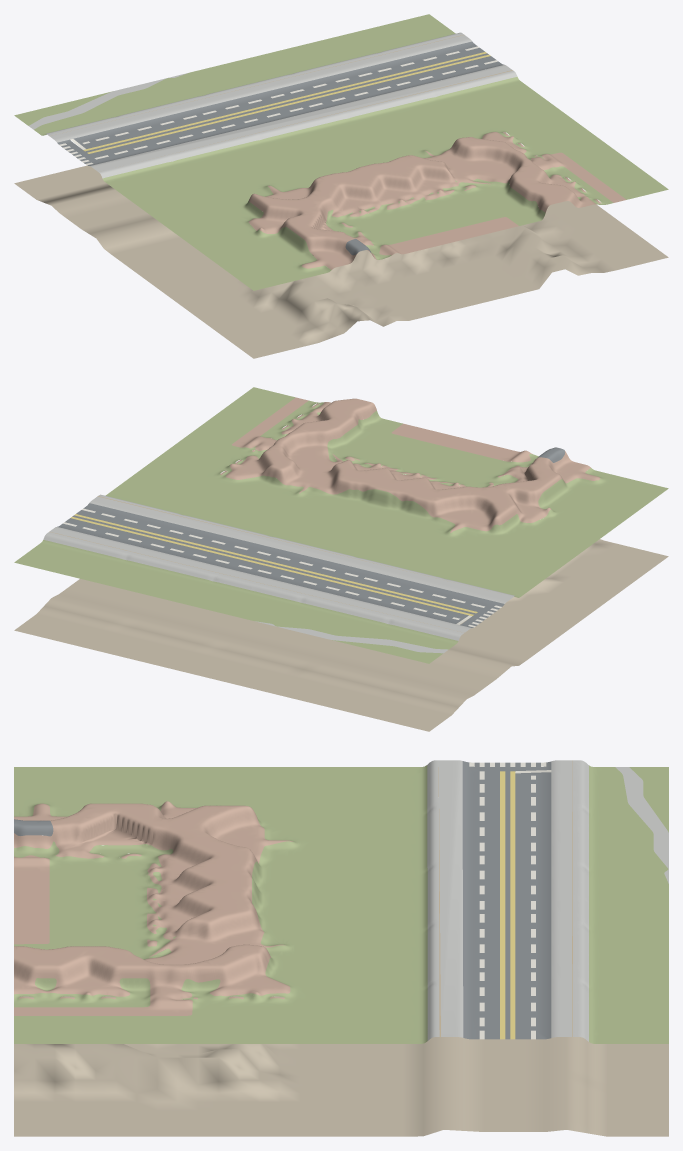
3 views of the same model, one above another, from view 1: azimuth 30°, elevation 25°; view 2: azimuth 150°, elevation 25°; view 3: azimuth 270°, elevation 25° (orthographic). The views are drawn at different scales.
Visible parts, largest first — view 1: s_-10_-6__grass, s_-10_-6__soil, s_-10_-6__brick_paving, s_-10_-6__stone_paving, s_-10_-6__asphalt, s_-10_-6__yellow_marking, s_-10_-6__white_marking, s_-10_-6__timber_deck; view 2: s_-10_-6__grass, s_-10_-6__soil, s_-10_-6__brick_paving, s_-10_-6__stone_paving, s_-10_-6__asphalt, s_-10_-6__yellow_marking, s_-10_-6__white_marking, s_-10_-6__timber_deck; view 3: s_-10_-6__grass, s_-10_-6__soil, s_-10_-6__brick_paving, s_-10_-6__stone_paving, s_-10_-6__asphalt, s_-10_-6__yellow_marking, s_-10_-6__white_marking, s_-10_-6__timber_deck.
Boxes of the visible parts, bbox=[...] form: s_-10_-6__grass: bbox=[14, 14, 668, 290]; s_-10_-6__soil: bbox=[14, 165, 668, 358]; s_-10_-6__brick_paving: bbox=[248, 132, 626, 269]; s_-10_-6__stone_paving: bbox=[29, 32, 517, 178]; s_-10_-6__asphalt: bbox=[57, 41, 503, 255]; s_-10_-6__yellow_marking: bbox=[83, 52, 490, 153]; s_-10_-6__white_marking: bbox=[59, 46, 497, 165]; s_-10_-6__timber_deck: bbox=[51, 34, 512, 156]; s_-10_-6__grass: bbox=[14, 387, 668, 663]; s_-10_-6__soil: bbox=[14, 539, 668, 731]; s_-10_-6__brick_paving: bbox=[220, 397, 600, 532]; s_-10_-6__stone_paving: bbox=[43, 494, 514, 653]; s_-10_-6__asphalt: bbox=[57, 447, 565, 627]; s_-10_-6__yellow_marking: bbox=[71, 514, 477, 616]; s_-10_-6__white_marking: bbox=[63, 508, 501, 627]; s_-10_-6__timber_deck: bbox=[49, 496, 464, 632]; s_-10_-6__grass: bbox=[14, 765, 668, 1043]; s_-10_-6__soil: bbox=[14, 949, 668, 1136]; s_-10_-6__brick_paving: bbox=[14, 801, 292, 1015]; s_-10_-6__stone_paving: bbox=[427, 760, 668, 1041]; s_-10_-6__asphalt: bbox=[14, 761, 551, 1039]; s_-10_-6__yellow_marking: bbox=[500, 771, 515, 1039]; s_-10_-6__white_marking: bbox=[469, 762, 551, 1039]; s_-10_-6__timber_deck: bbox=[438, 760, 572, 1036].
Bounding box in the file's own units: 128 × 24.01 × 128.
